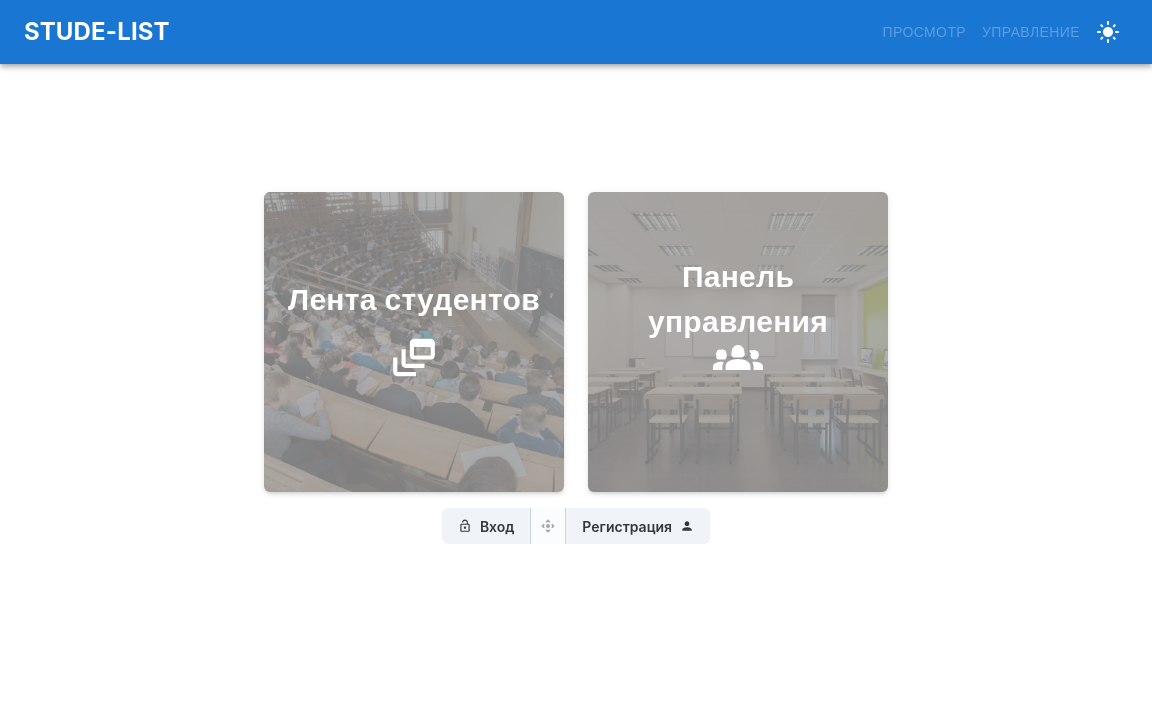
Форма входа в аккаунт › При вводе не почты - появляется ошибка
The image size is (1152, 720).
Click the button "Вход" at (487, 526), box [442,508,532,544]
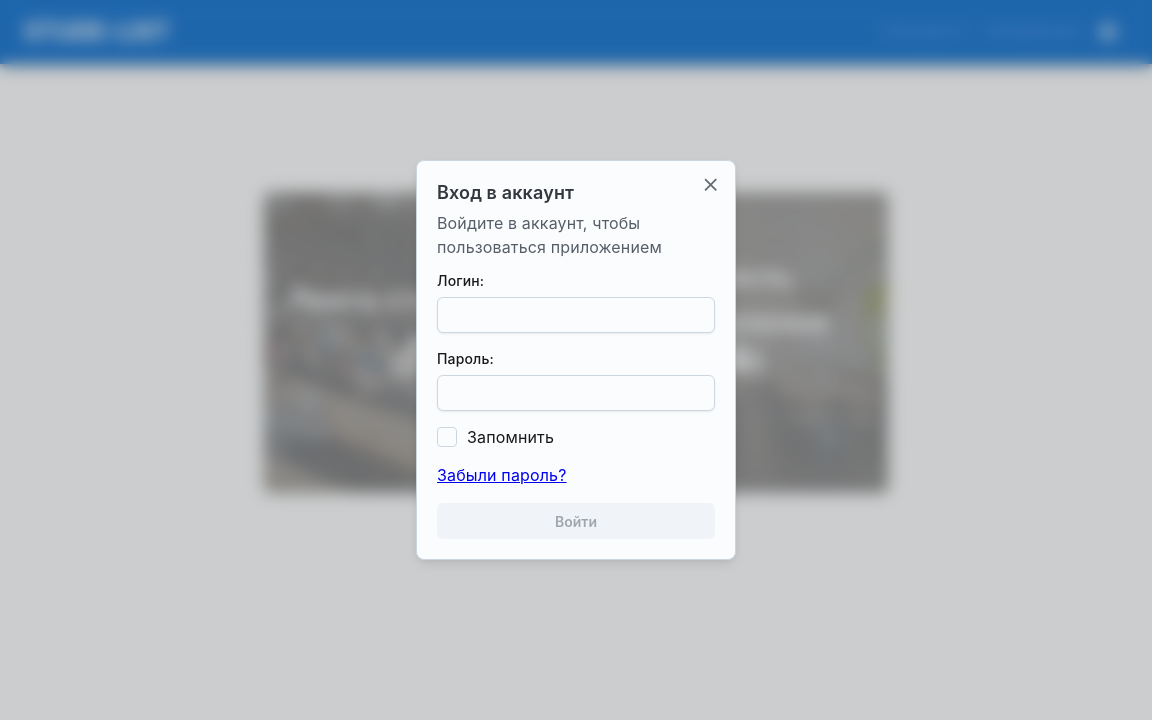
Click the element with test id "auth-input-login" at (576, 315), box [437,297,715,333]
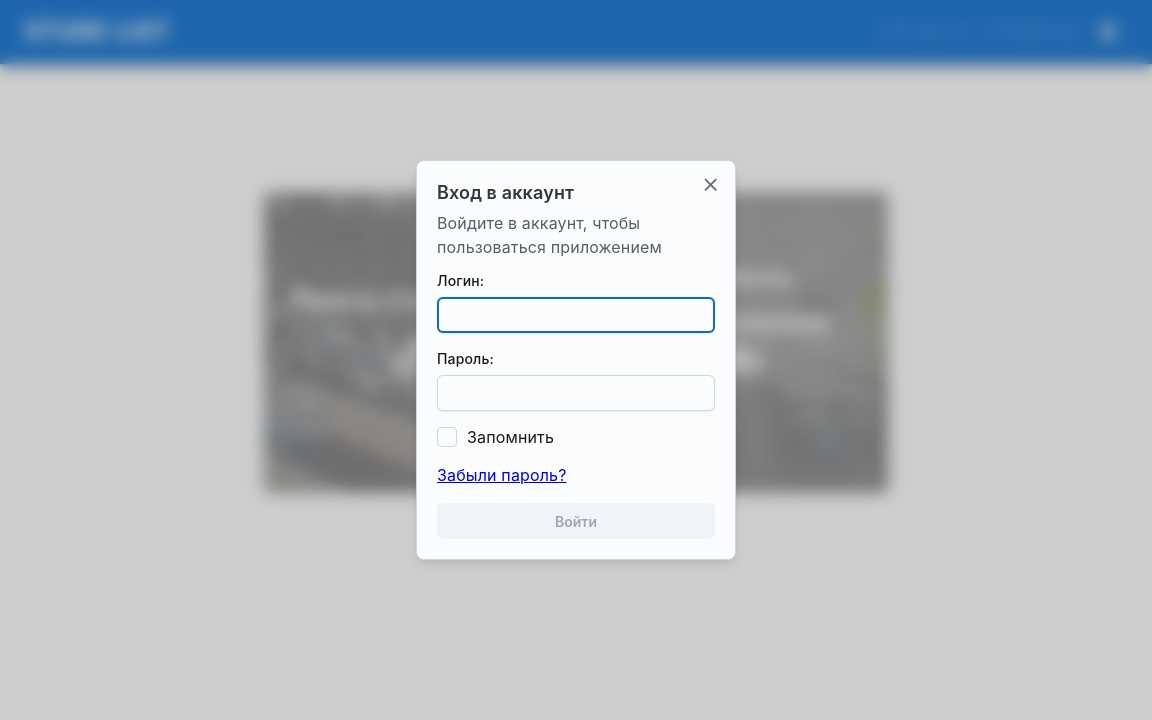
Type "not_email" into the element with test id "auth-input-login" at (576, 315), box [437,297,715,333]
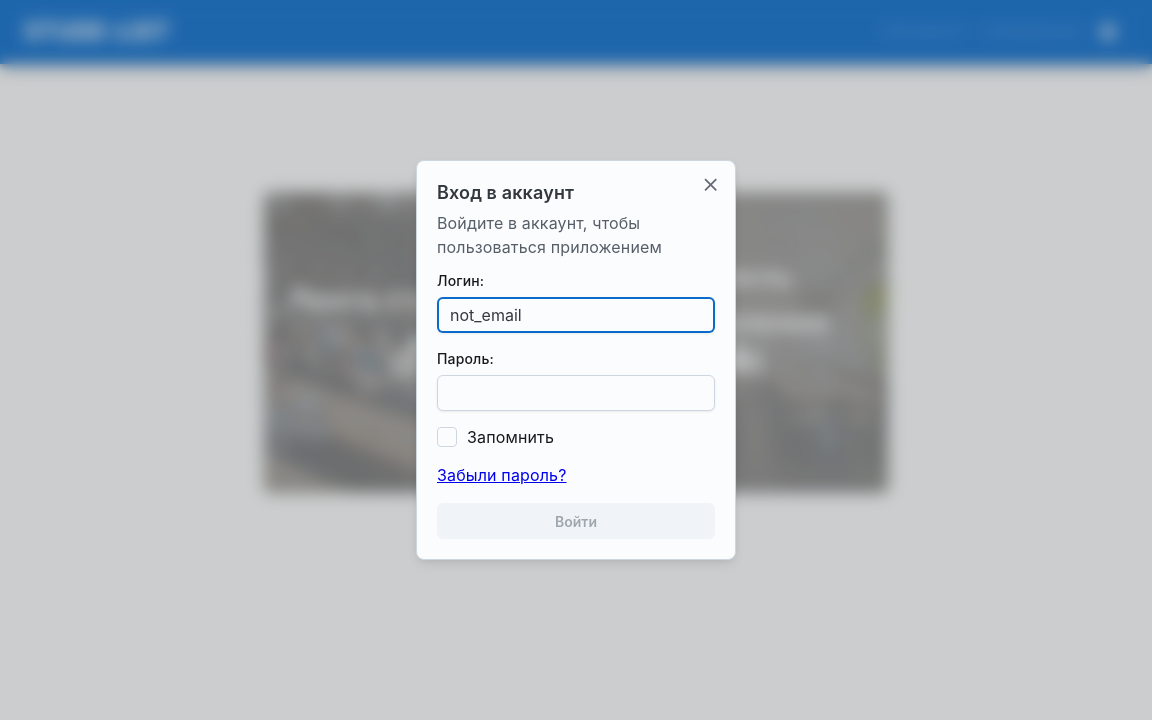
Click the element with test id "auth-input-password" at (576, 393), box [437,375,715,411]
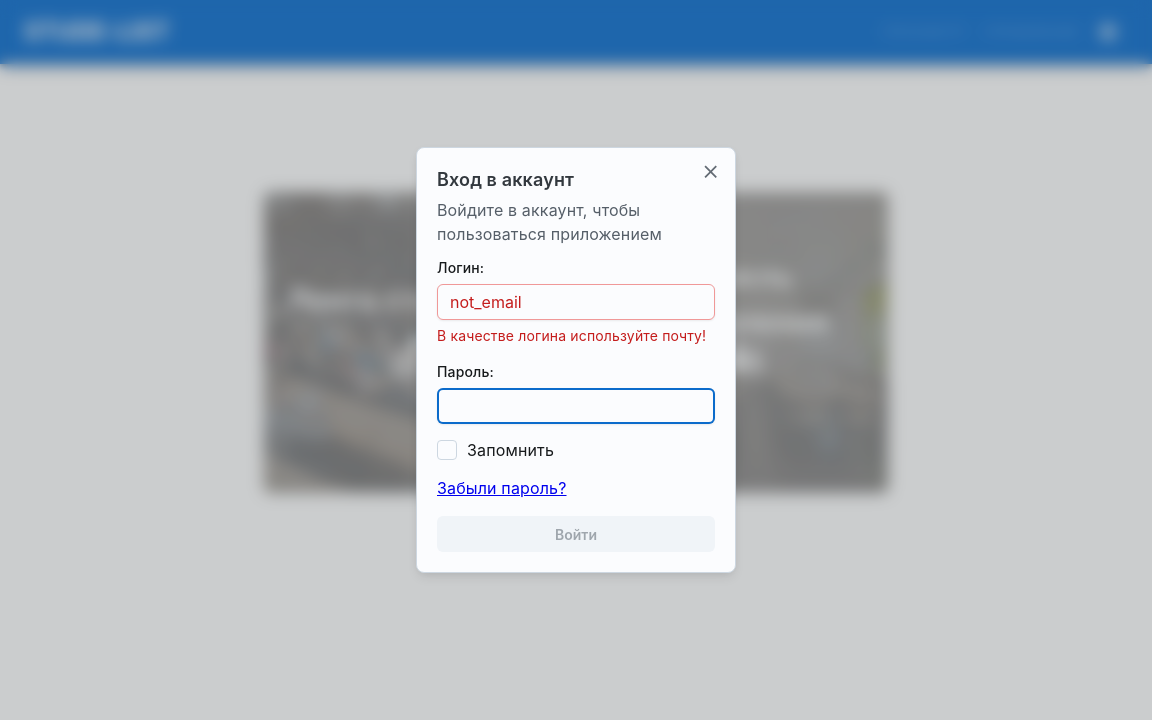
Check: the text "В качестве логина используйте почту!" is shown, box [437,326,715,346]
